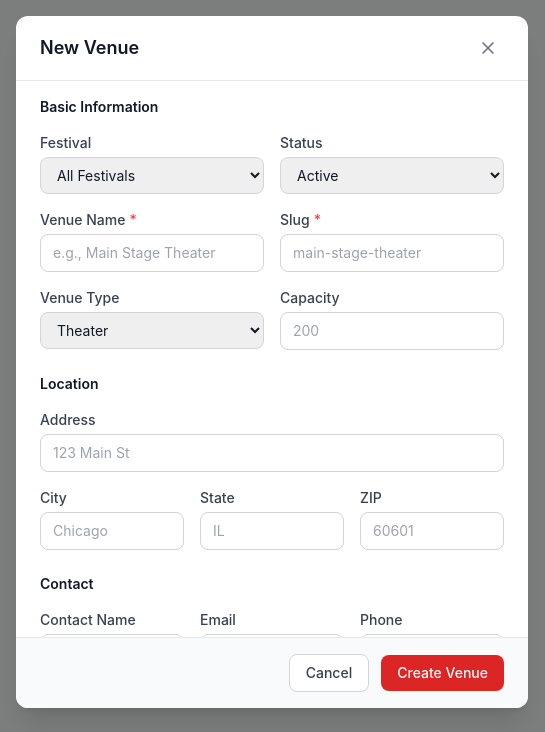
Test case: VenueForm › slug auto-generation › auto-generates slug from name
This screenshot has width=545, height=732.
Type "Downtown Comedy Club" into the field with placeholder "e.g., Main Stage Theater" at (152, 253), box [40,234,264,272]
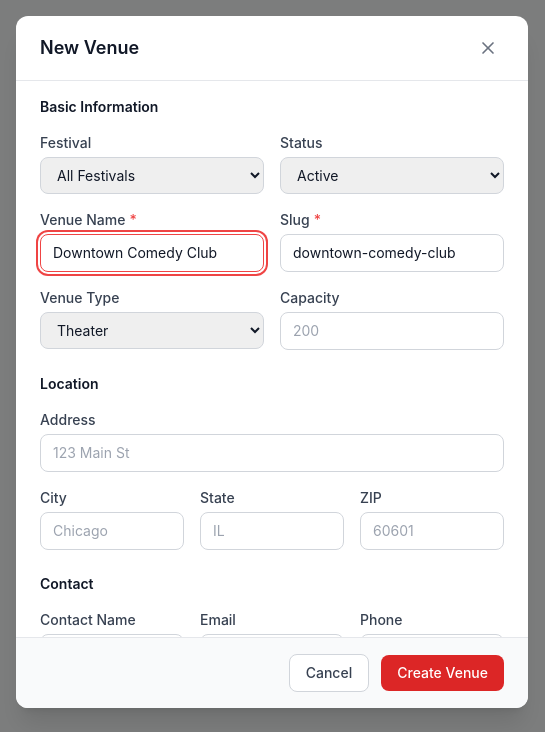
Check: the field with placeholder "main-stage-theater" holds "downtown-comedy-club", box [280,234,504,272]
